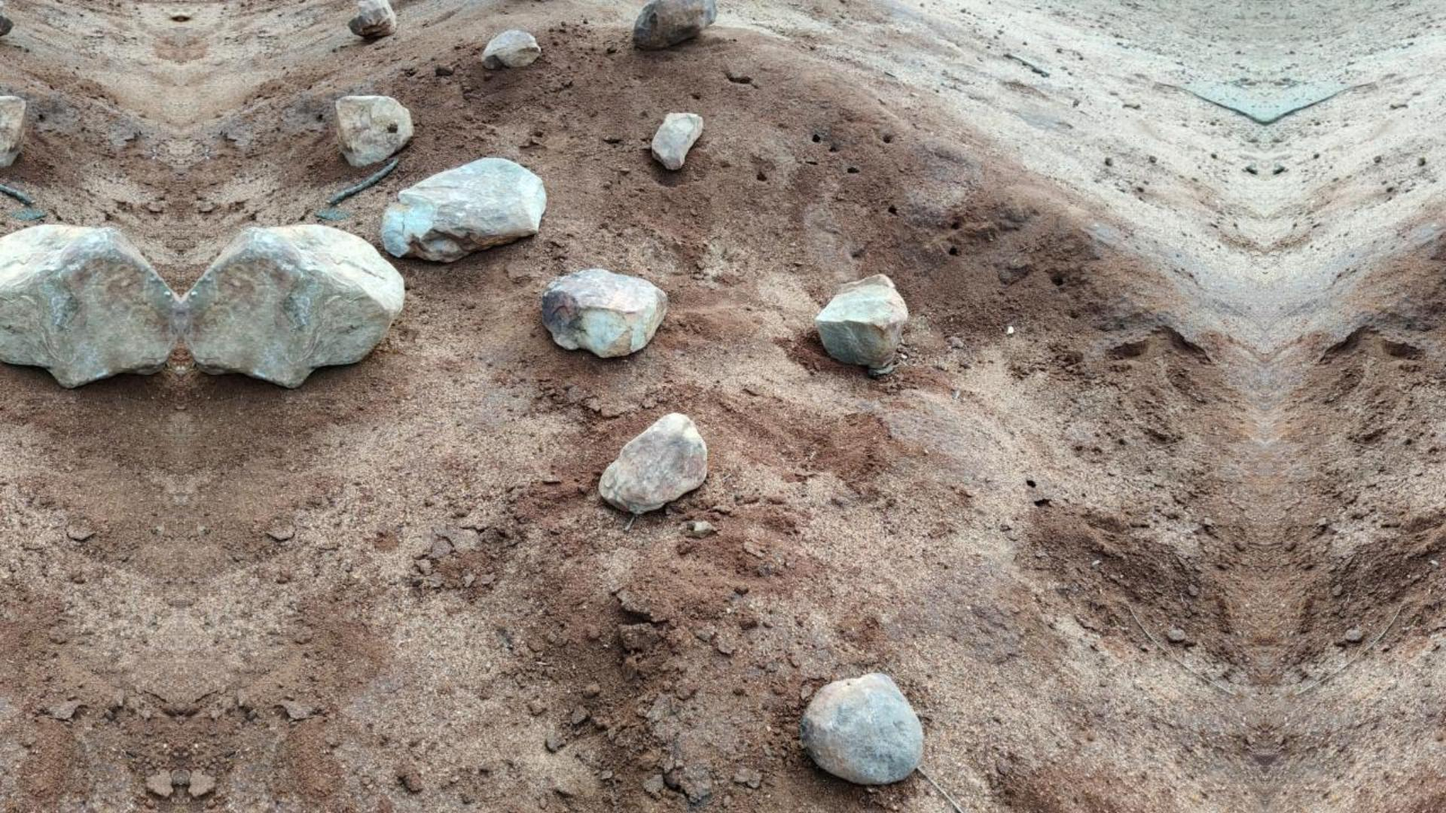rock: (183, 225, 403, 386), (0, 225, 178, 387), (380, 157, 546, 261), (800, 673, 922, 784), (541, 268, 667, 357), (598, 413, 706, 514), (816, 274, 907, 367), (336, 96, 412, 166), (633, 0, 716, 49), (651, 112, 703, 169), (481, 29, 540, 70), (348, 0, 397, 38), (0, 95, 25, 167), (0, 0, 14, 36)
